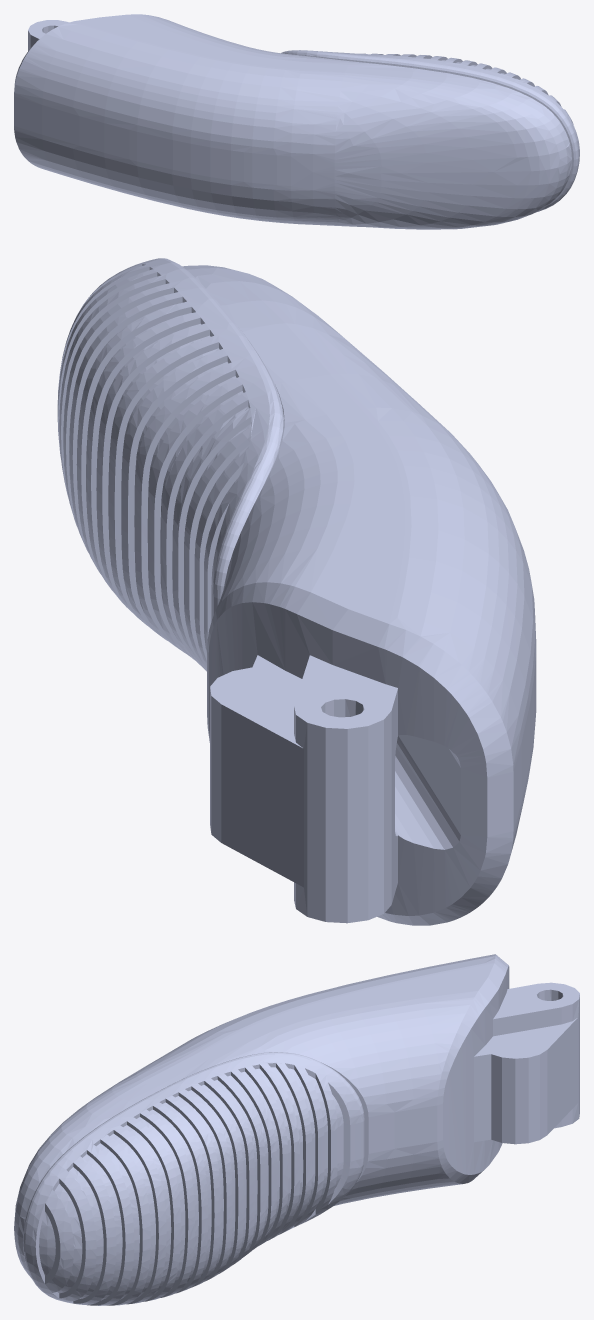
File: rh_pinky_distal_vis.obj
The picture shows the model from 3 angles, top to bottom: view 1: azimuth 30°, elevation 25°; view 2: azimuth 150°, elevation 25°; view 3: azimuth 270°, elevation 25°; orthographic projection. The views are drawn at different scales.
Parts seen in each view (by area): view 1: rh_pinky_distal; view 2: rh_pinky_distal; view 3: rh_pinky_distal.
Part boxes in pixels (<box>): rh_pinky_distal: <box>14,14,579,229</box>; rh_pinky_distal: <box>57,258,536,925</box>; rh_pinky_distal: <box>14,954,579,1305</box>.
Size of the model in its own units: 0.0408 by 0.0159 by 0.042.
1 material, 1 textured.
